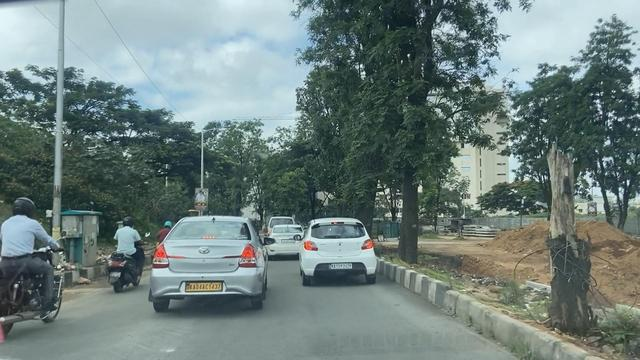LMV: (160, 227, 261, 307), (1, 207, 64, 326), (310, 218, 376, 285), (111, 221, 140, 292)
